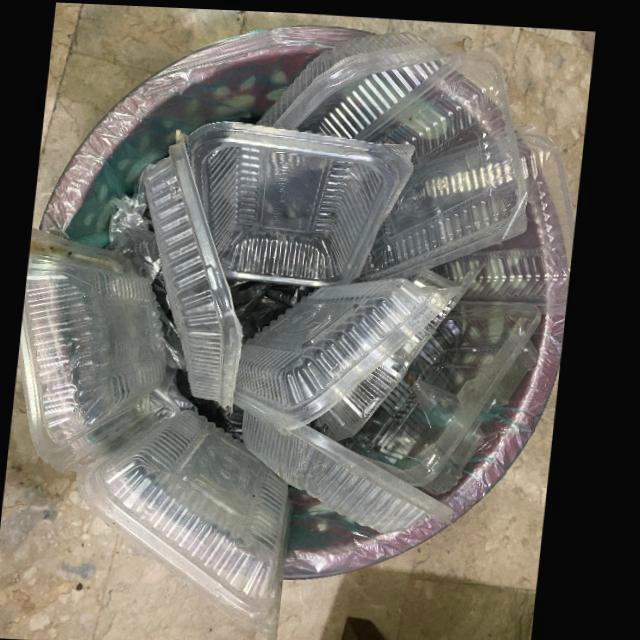plastic_container: (25, 228, 299, 639), (145, 119, 417, 410), (257, 29, 533, 279), (241, 275, 470, 529), (317, 295, 548, 492)
